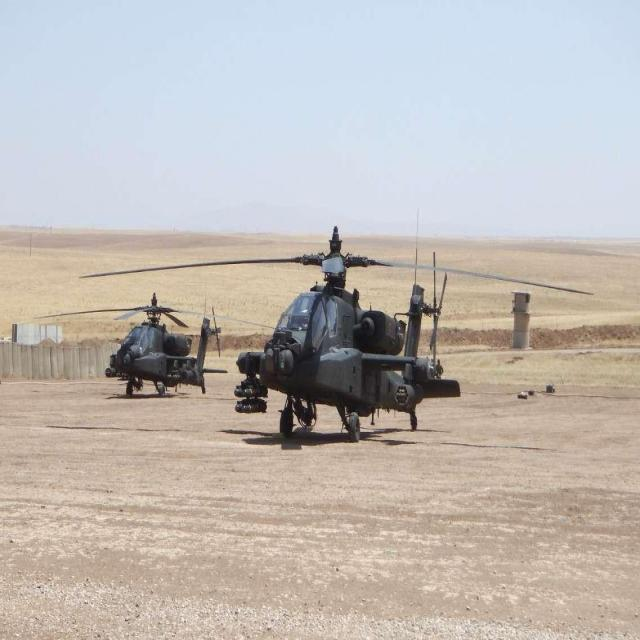MIL_HELO: (79, 230, 597, 443), (23, 292, 289, 404)
